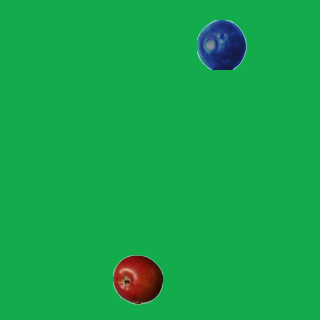Apple Braeburn: (112, 254, 162, 304)
Huckleberry: (196, 19, 246, 69)
